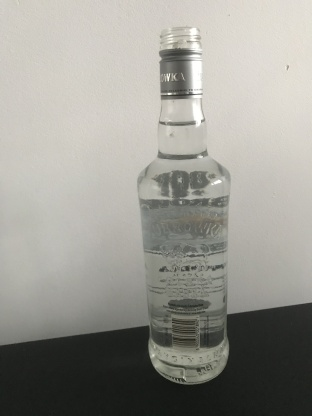nakretka: (157, 24, 204, 99)
